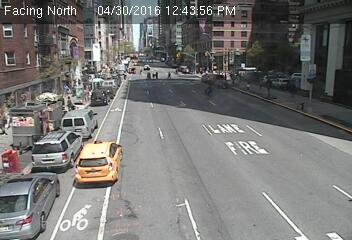neg: (297, 154, 328, 197), (181, 119, 206, 152), (243, 109, 268, 142), (276, 102, 301, 135), (110, 110, 133, 140), (46, 152, 67, 180), (219, 122, 239, 149), (14, 56, 34, 83), (156, 111, 175, 137), (205, 190, 224, 215), (51, 103, 70, 127), (112, 178, 130, 203), (85, 198, 102, 220), (71, 141, 86, 161), (13, 87, 28, 107), (94, 161, 108, 178), (71, 114, 84, 132), (146, 202, 158, 219), (14, 110, 25, 124)
pos: (251, 74, 264, 91), (240, 78, 253, 95), (76, 83, 89, 100), (62, 93, 74, 109), (262, 76, 273, 91), (59, 83, 69, 96), (120, 69, 129, 82), (163, 68, 172, 79), (151, 69, 160, 80), (143, 70, 151, 81), (138, 68, 142, 74)
